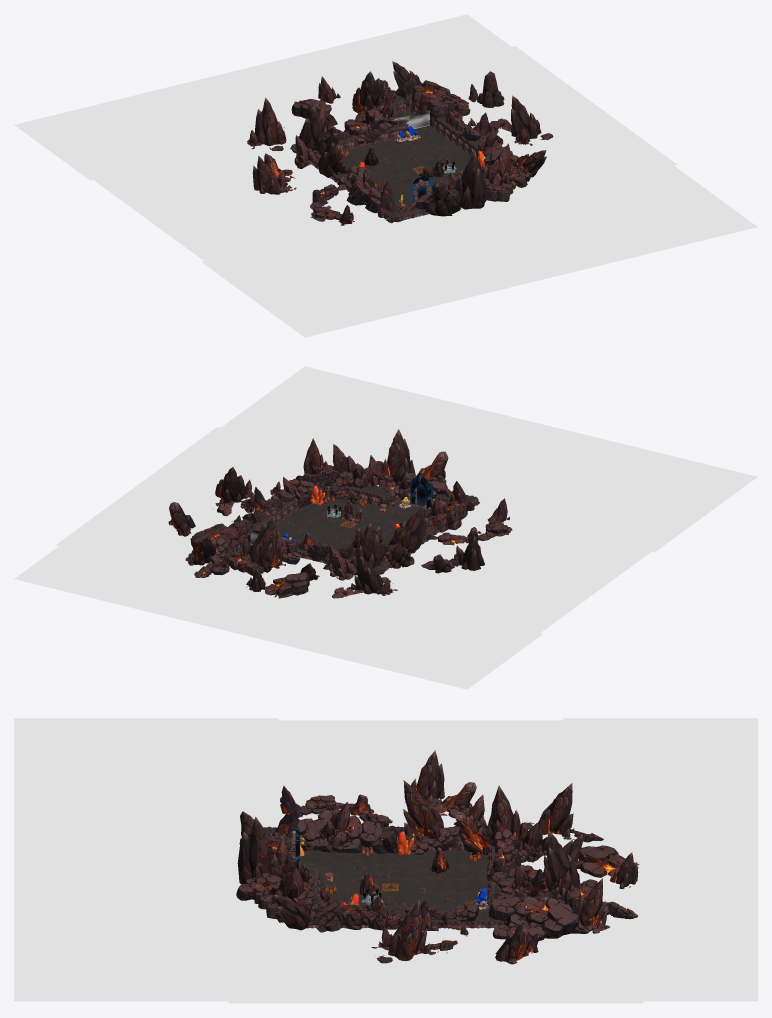
File: LevelMap_1070601.glb
The picture shows the model from 3 angles, top to bottom: view 1: azimuth 30°, elevation 25°; view 2: azimuth 150°, elevation 25°; view 3: azimuth 270°, elevation 25°; orthographic projection. The views are drawn at different scales.
Parts seen in each view (by area): view 1: EnvCavern_Detail__Lava_4__u3253, EnvCavern_Detail__Lava_3__u2614, EnvCavern_Detail__Lava_1__u2441, EnvCavern_Detail__Lava__u3646, EnvCavern_Detail__Lava_2__u3470, EnvCavern_Detail__Lava_5__u2025, LevelMap_1070601_Terrain__u2010, LevelMap_1070601_Terrain_1__u2881, EnvCavern_Detail__Rock___2__u3644, EnvCavern_Detail__Rock___3__u2442, EnvCavern_Detail__Rock___2__u3200, EnvCavern_Detail__Rock___2__u2480 (+8 smaller); view 2: EnvCavern_Detail__Lava_4__u3253, EnvCavern_Detail__Lava_3__u2614, EnvCavern_Detail__Lava_1__u2441, EnvCavern_Detail__Lava__u3646, EnvCavern_Detail__Lava_2__u3470, LevelMap_1070601_Terrain__u2010, EnvCavern_Detail__Lava_5__u2025, EnvCavern_Detail__Rock___2__u2480, EnvCavern_Detail__Rock___2__u3802, EnvCavern_Detail__Rock___3__u2442, EnvCavern_Detail__Rock___2__u3644, EnvCavern_Detail__Rock___3__u2666 (+9 smaller); view 3: EnvCavern_Detail__Lava_4__u3253, EnvCavern_Detail__Lava_3__u2614, EnvCavern_Detail__Lava_1__u2441, EnvCavern_Detail__Lava__u3646, LevelMap_1070601_Terrain__u2010, EnvCavern_Detail__Lava_2__u3470, EnvCavern_Detail__Lava_5__u2025, EnvCavern_Detail__Rock___3__u2442, LevelMap_1070601_Terrain_1__u2881, EnvCavern_Detail__Rock___3__u3110, EnvCavern_Detail__Rock___2__u3644, EnvCavern_Detail__Rock___2__u3802 (+25 smaller).
Part boxes in pixels (bbox=[...]): EnvCavern_Detail__Lava_4__u3253: bbox=[202, 161, 757, 337]; EnvCavern_Detail__Lava_3__u2614: bbox=[14, 14, 542, 180]; EnvCavern_Detail__Lava_1__u2441: bbox=[62, 111, 412, 275]; EnvCavern_Detail__Lava__u3646: bbox=[384, 46, 677, 196]; EnvCavern_Detail__Lava_2__u3470: bbox=[185, 74, 357, 159]; EnvCavern_Detail__Lava_5__u2025: bbox=[476, 185, 588, 239]; LevelMap_1070601_Terrain__u2010: bbox=[365, 144, 471, 205]; LevelMap_1070601_Terrain_1__u2881: bbox=[342, 110, 455, 167]; EnvCavern_Detail__Rock___2__u3644: bbox=[448, 152, 487, 209]; EnvCavern_Detail__Rock___3__u2442: bbox=[410, 80, 453, 126]; EnvCavern_Detail__Rock___2__u3200: bbox=[255, 97, 286, 146]; EnvCavern_Detail__Rock___2__u2480: bbox=[352, 71, 383, 114]; EnvCavern_Detail__Lava_4__u3253: bbox=[202, 366, 757, 552]; EnvCavern_Detail__Lava_3__u2614: bbox=[14, 528, 542, 689]; EnvCavern_Detail__Lava_1__u2441: bbox=[320, 491, 668, 655]; EnvCavern_Detail__Lava__u3646: bbox=[55, 427, 333, 577]; EnvCavern_Detail__Lava_2__u3470: bbox=[210, 557, 413, 638]; LevelMap_1070601_Terrain__u2010: bbox=[277, 498, 430, 546]; EnvCavern_Detail__Lava_5__u2025: bbox=[332, 430, 449, 486]; EnvCavern_Detail__Rock___2__u2480: bbox=[250, 516, 285, 572]; EnvCavern_Detail__Rock___2__u3802: bbox=[389, 505, 428, 553]; EnvCavern_Detail__Rock___3__u2442: bbox=[190, 519, 252, 551]; EnvCavern_Detail__Rock___2__u3644: bbox=[381, 429, 415, 499]; EnvCavern_Detail__Rock___3__u2666: bbox=[263, 572, 309, 598]; EnvCavern_Detail__Lava_4__u3253: bbox=[14, 718, 278, 1001]; EnvCavern_Detail__Lava_3__u2614: bbox=[563, 718, 757, 1001]; EnvCavern_Detail__Lava_1__u2441: bbox=[228, 720, 643, 838]; EnvCavern_Detail__Lava__u3646: bbox=[228, 920, 643, 1003]; LevelMap_1070601_Terrain__u2010: bbox=[289, 850, 435, 911]; EnvCavern_Detail__Lava_2__u3470: bbox=[512, 809, 703, 893]; EnvCavern_Detail__Lava_5__u2025: bbox=[134, 881, 285, 924]; EnvCavern_Detail__Rock___3__u2442: bbox=[488, 895, 579, 938]; LevelMap_1070601_Terrain_1__u2881: bbox=[436, 849, 490, 911]; EnvCavern_Detail__Rock___3__u3110: bbox=[306, 809, 384, 853]; EnvCavern_Detail__Rock___2__u3644: bbox=[237, 816, 282, 884]; EnvCavern_Detail__Rock___2__u3802: bbox=[403, 780, 443, 843].
Bounding box in the file's own units: 81.52 × 14.79 × 89.88.
34 materials, 33 textured.
